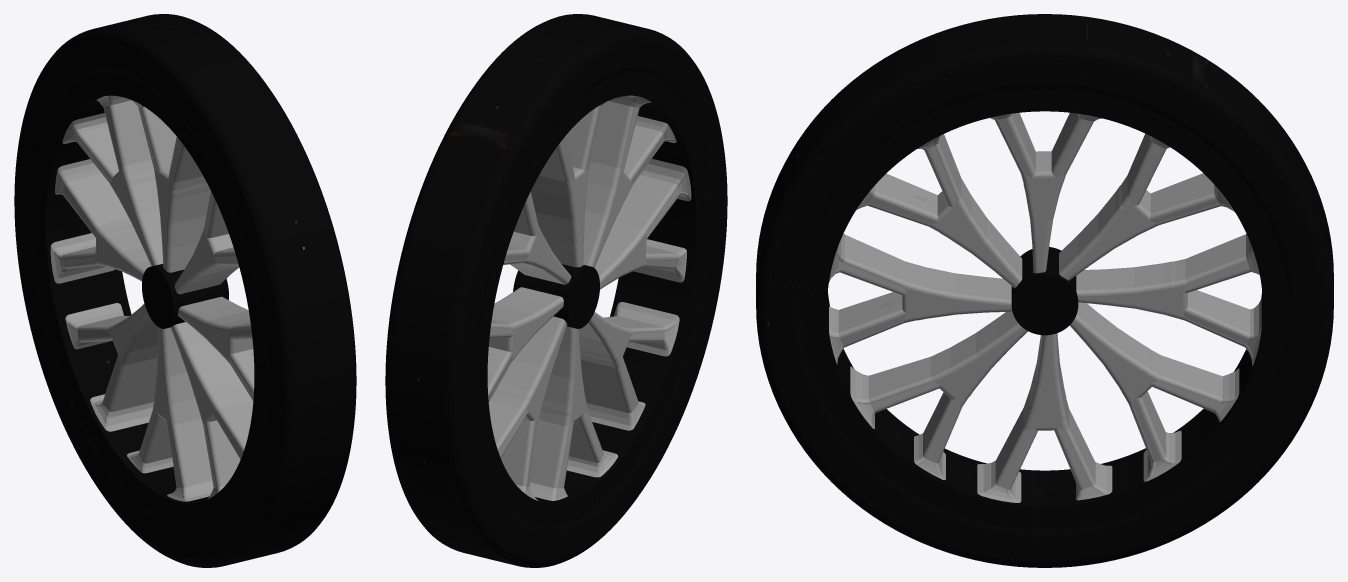
Rendered from RearWheel.fbx.
3 renders of one model, left to right at view 1: azimuth 30°, elevation 25°; view 2: azimuth 150°, elevation 25°; view 3: azimuth 270°, elevation 25°, orthographic. The views are drawn at different scales.
Parts seen in each view (by area): view 1: tire, tireFrame; view 2: tire, tireFrame; view 3: tire, tireFrame.
Boxes of the visible parts, box(x1,y1,x2,y2) form: tire: box(14, 14, 356, 567); tireFrame: box(50, 95, 254, 501); tire: box(385, 14, 727, 567); tireFrame: box(487, 95, 691, 500); tire: box(756, 14, 1333, 567); tireFrame: box(829, 112, 1261, 502).
Size of the model in its own units: 0.9231 by 6 by 6.
